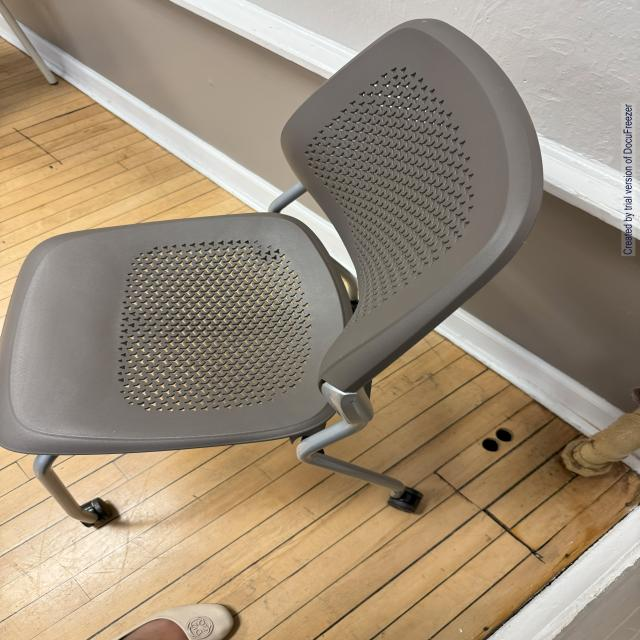chair: (0, 9, 557, 552)
